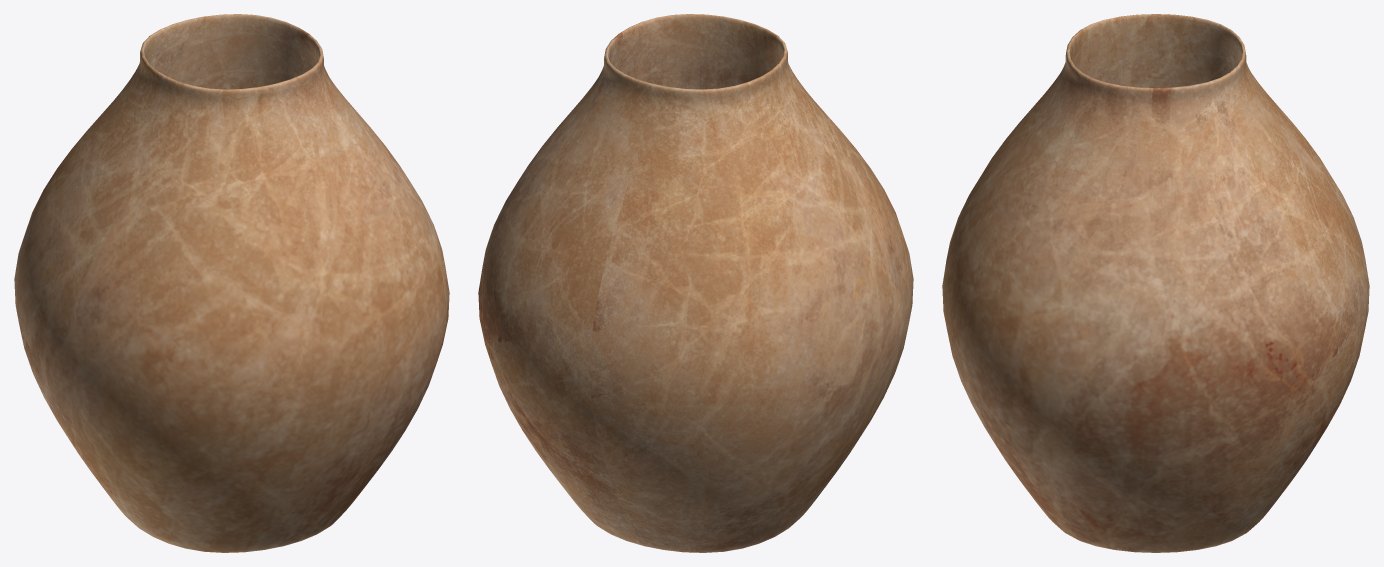
File: Vase.fbx
3 views of the same model, side by side, from view 1: azimuth 30°, elevation 25°; view 2: azimuth 150°, elevation 25°; view 3: azimuth 270°, elevation 25° (orthographic).
Parts seen in each view (by area): view 1: VaseWithModifier; view 2: VaseWithModifier; view 3: VaseWithModifier.
Boxes of the visible parts, bbox=[...] form: VaseWithModifier: bbox=[14, 14, 449, 552]; VaseWithModifier: bbox=[478, 14, 913, 552]; VaseWithModifier: bbox=[942, 14, 1369, 552].
Bounding box in the file's own units: 18.2 × 21.68 × 18.2.
